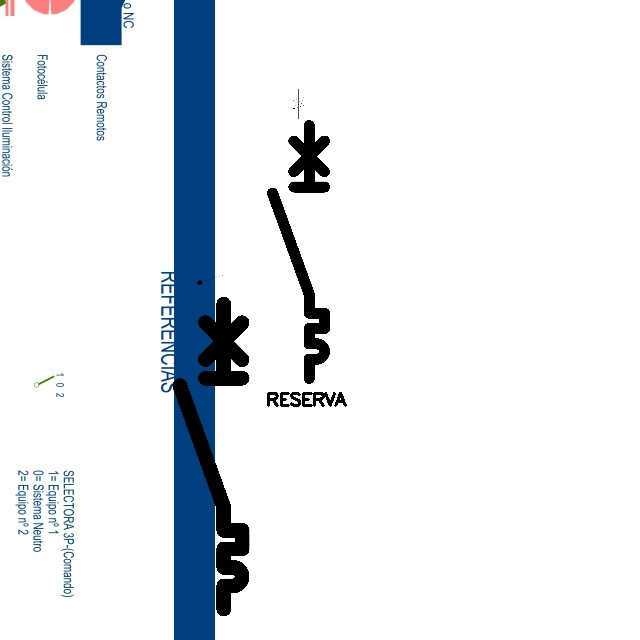interruptor_termomagnetico: (172, 296, 250, 617), (266, 119, 331, 385)
